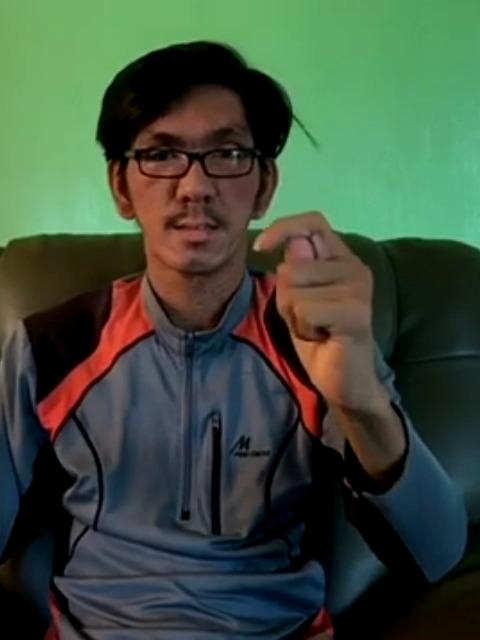T: (249, 205, 377, 402)
